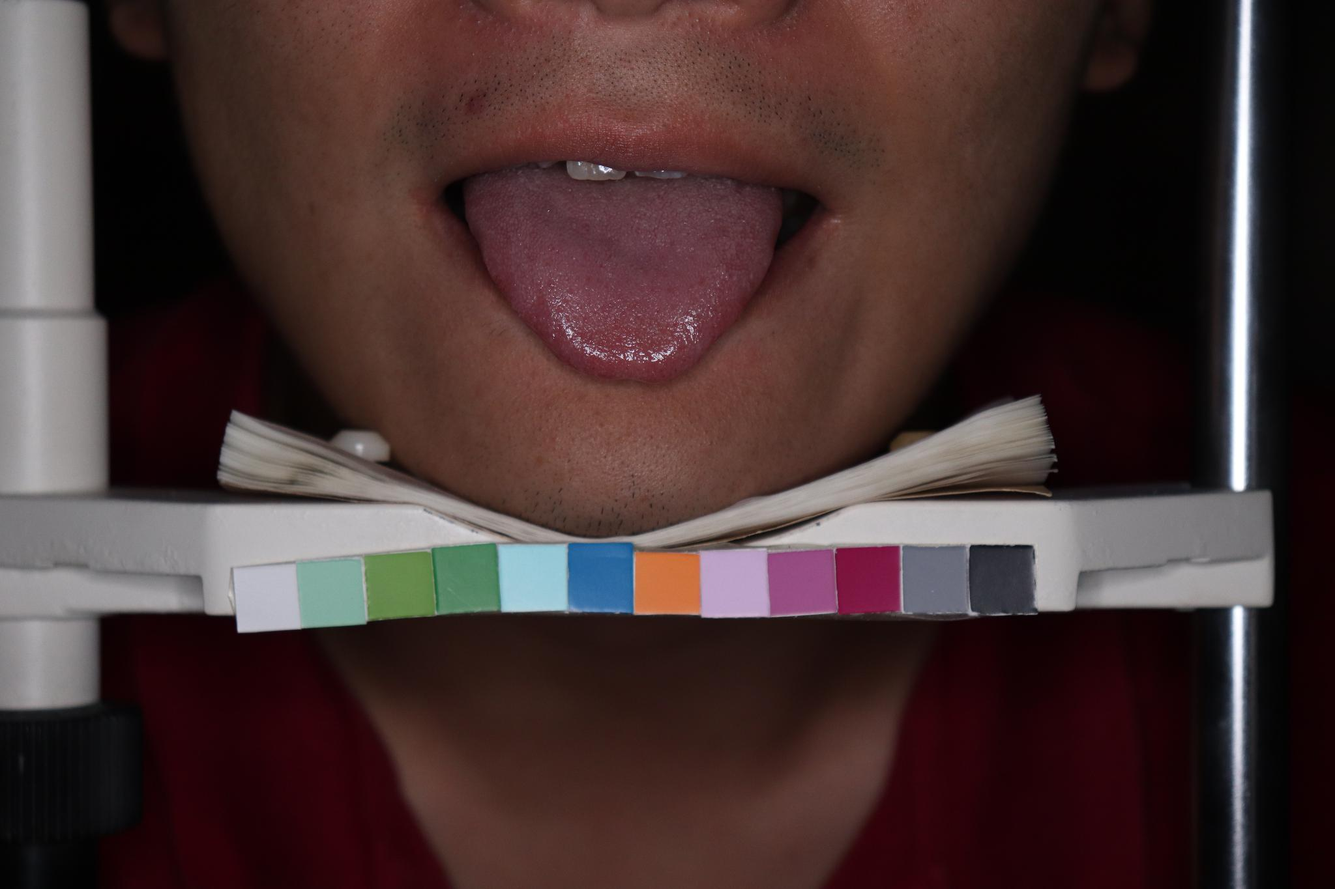hongshe: (462, 167, 787, 389)
huataishe: (541, 307, 716, 378)
piweiao: (561, 202, 727, 281)
